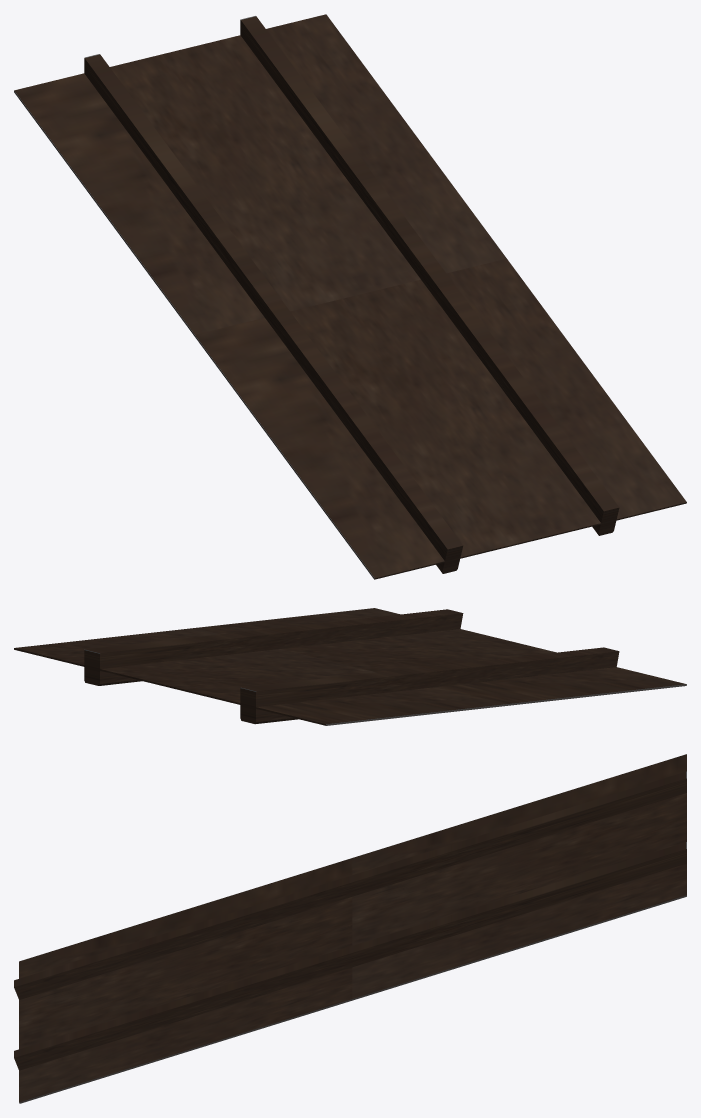
Rendered from OutdoorArchitecture_Ceiling_MidPiece_BShortt.fbx.
3 views of the same model, one above another, from view 1: azimuth 30°, elevation 25°; view 2: azimuth 150°, elevation 25°; view 3: azimuth 270°, elevation 25° (orthographic). The views are drawn at different scales.
Visible parts, largest first — view 1: OutdoorArchitecture_Ceiling_MidPiece_BShortt; view 2: OutdoorArchitecture_Ceiling_MidPiece_BShortt; view 3: OutdoorArchitecture_Ceiling_MidPiece_BShortt.
Boxes of the visible parts, left/top/right/bottom form: OutdoorArchitecture_Ceiling_MidPiece_BShortt: left=14, top=14, right=686, bottom=579; OutdoorArchitecture_Ceiling_MidPiece_BShortt: left=14, top=608, right=686, bottom=725; OutdoorArchitecture_Ceiling_MidPiece_BShortt: left=14, top=754, right=686, bottom=1103.
Bounding box in the file's own units: 300 × 234 × 605.
